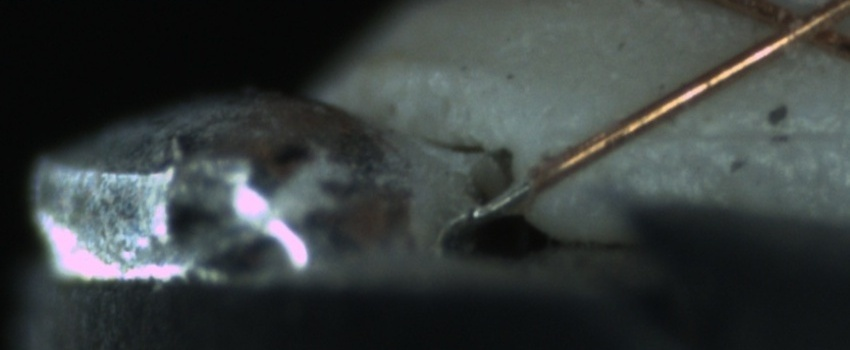CL: (748, 0, 846, 59)
DL: (605, 99, 849, 164)
TS: (472, 169, 544, 224)
